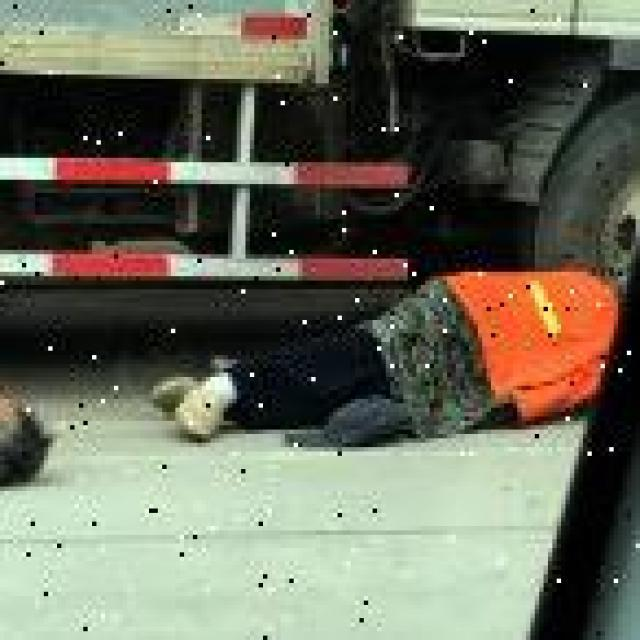fall: (158, 250, 636, 438)
